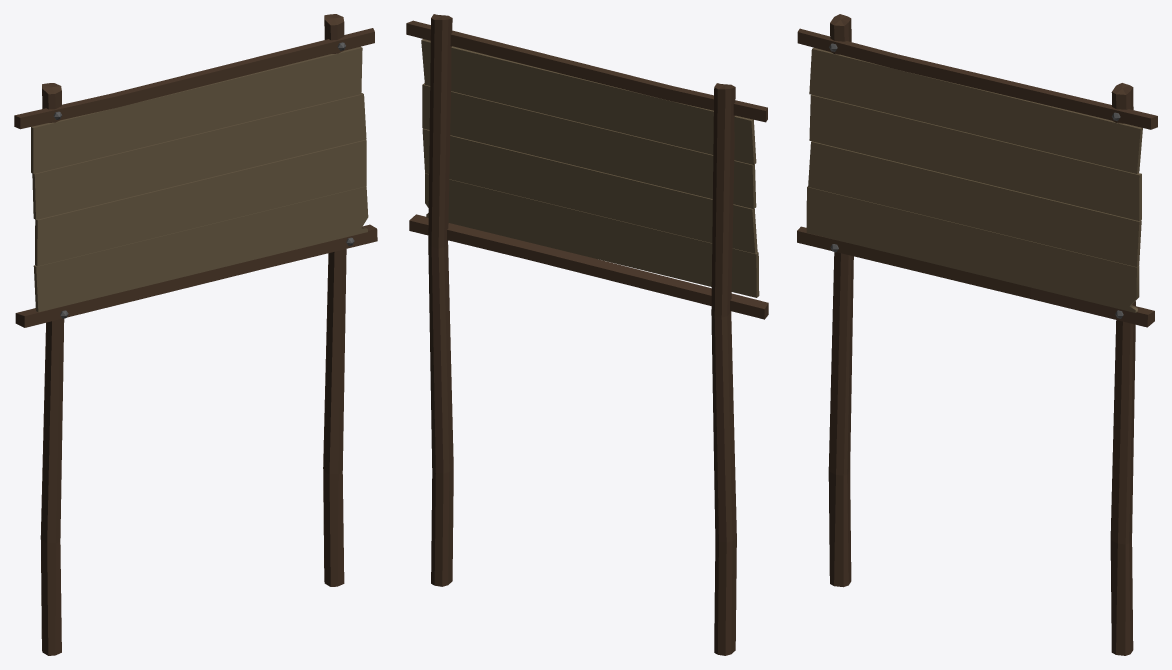
File: scoreboard.fbx
3 views of the same model, side by side, from view 1: azimuth 30°, elevation 25°; view 2: azimuth 150°, elevation 25°; view 3: azimuth 330°, elevation 25° (orthographic).
Parts seen in each view (by area): view 1: pCylinder7; view 2: pCylinder7; view 3: pCylinder7.
Boxes of the visible parts, box(x1,y1,x2,y2) form: pCylinder7: box(14, 14, 377, 655); pCylinder7: box(406, 14, 768, 655); pCylinder7: box(797, 14, 1157, 655).
Size of the model in its own units: 37.23 by 56.06 by 3.04.
